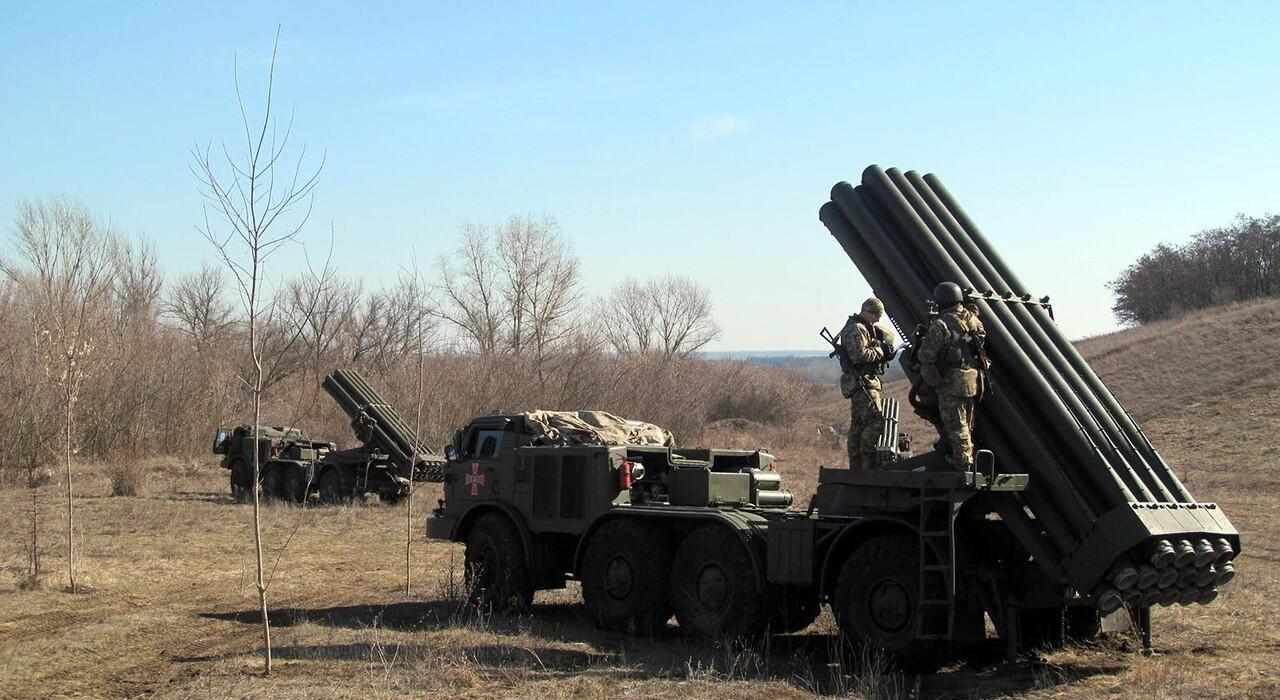rszo: (444, 132, 1252, 682), (212, 346, 476, 529)
